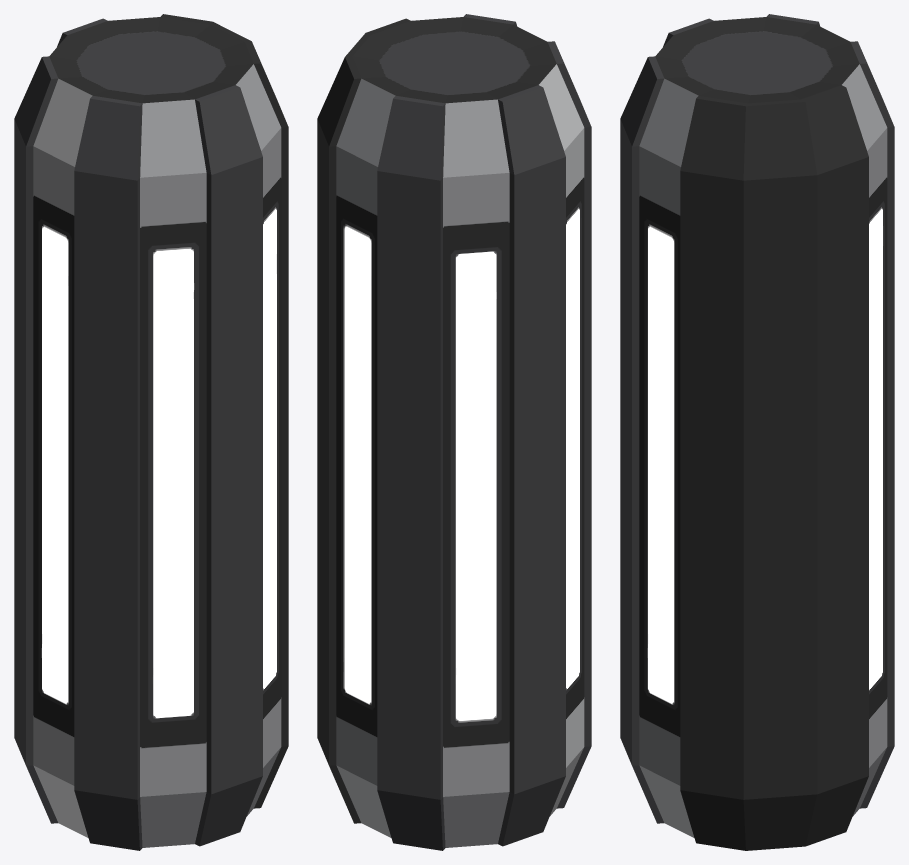
Rendered from Canister.fbx.
3 views of the same model, side by side, from view 1: azimuth 30°, elevation 25°; view 2: azimuth 150°, elevation 25°; view 3: azimuth 270°, elevation 25° (orthographic).
Parts seen in each view (by area): view 1: Canister; view 2: Canister; view 3: Canister.
Boxes of the visible parts, x1,y1,x2,y2 form: Canister: (14, 14, 288, 850); Canister: (317, 14, 591, 850); Canister: (620, 14, 894, 850).
Bounding box in the file's own units: 41.28 × 124 × 41.38.
